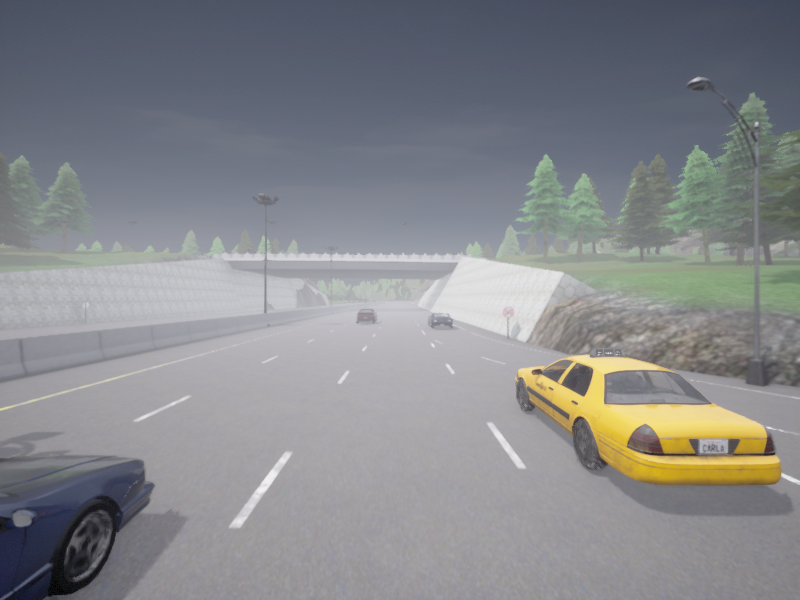vehicle: (515, 349, 781, 484), (0, 455, 154, 599), (428, 312, 452, 327), (357, 308, 376, 322)
